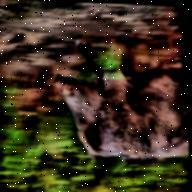boar: (52, 31, 191, 180)
